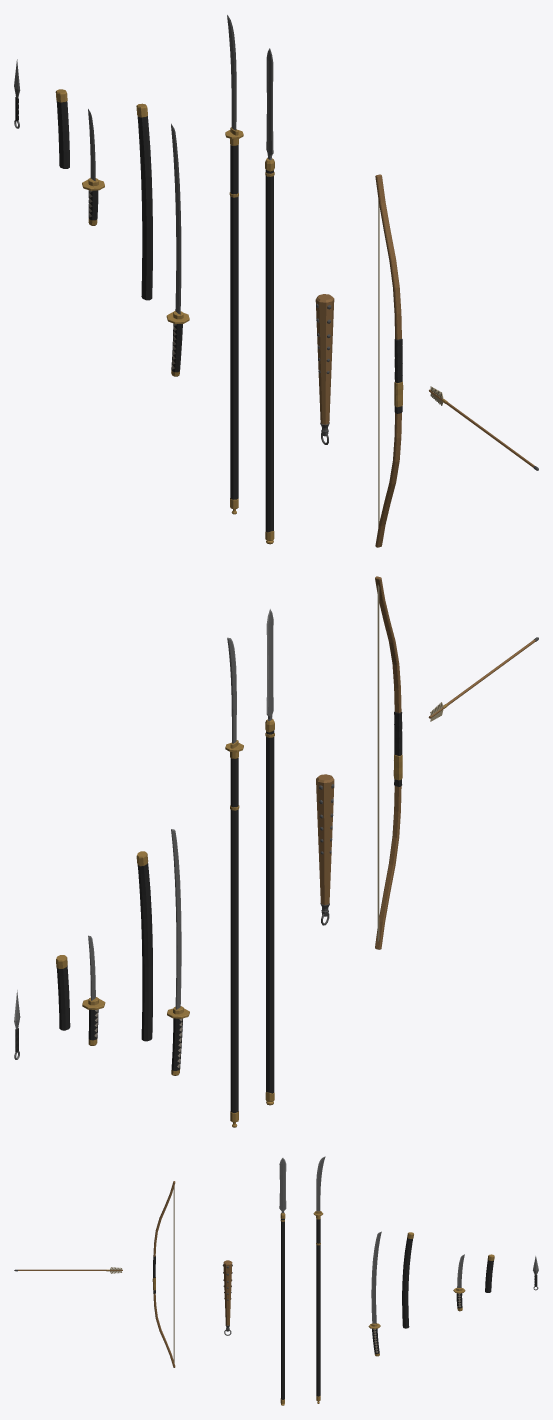
The model's file is samurai-weapons-pack-1.fbx.
3 renders of one model, top to bottom at view 1: azimuth 30°, elevation 25°; view 2: azimuth 150°, elevation 25°; view 3: azimuth 270°, elevation 25°, orthographic. The views are drawn at different scales.
Parts seen in each view (by area): view 1: Yari, Naginata, Yumi, KatanaCover, Kanabo, Katana, Tanto, TantoCover; view 2: Yari, Naginata, Yumi, KatanaCover, Kanabo, Katana, Tanto, TantoCover; view 3: Naginata, Yari, Yumi, Katana, KatanaCover, Kanabo, Tanto.
Boxes of the visible parts, x1=… form: Yari: x1=265, y1=48, x2=274, y2=544; Naginata: x1=225, y1=15, x2=243, y2=514; Yumi: x1=375, y1=174, x2=403, y2=547; KatanaCover: x1=136, y1=103, x2=152, y2=300; Kanabo: x1=315, y1=294, x2=334, y2=444; Katana: x1=166, y1=123, x2=189, y2=376; Tanto: x1=82, y1=109, x2=104, y2=225; TantoCover: x1=55, y1=89, x2=69, y2=168; Yari: x1=265, y1=609, x2=274, y2=1105; Naginata: x1=225, y1=637, x2=243, y2=1127; Yumi: x1=375, y1=576, x2=402, y2=949; KatanaCover: x1=136, y1=851, x2=152, y2=1041; Kanabo: x1=316, y1=774, x2=334, y2=925; Katana: x1=167, y1=829, x2=189, y2=1075; Tanto: x1=82, y1=935, x2=105, y2=1045; TantoCover: x1=56, y1=955, x2=70, y2=1030; Naginata: x1=313, y1=1156, x2=325, y2=1403; Yari: x1=279, y1=1158, x2=286, y2=1405; Yumi: x1=152, y1=1181, x2=175, y2=1367; Katana: x1=368, y1=1231, x2=381, y2=1356; KatanaCover: x1=402, y1=1232, x2=413, y2=1328; Kanabo: x1=222, y1=1260, x2=232, y2=1335; Tanto: x1=453, y1=1254, x2=465, y2=1311.
Bounding box in the file's own units: 8.71 × 201 × 384.
